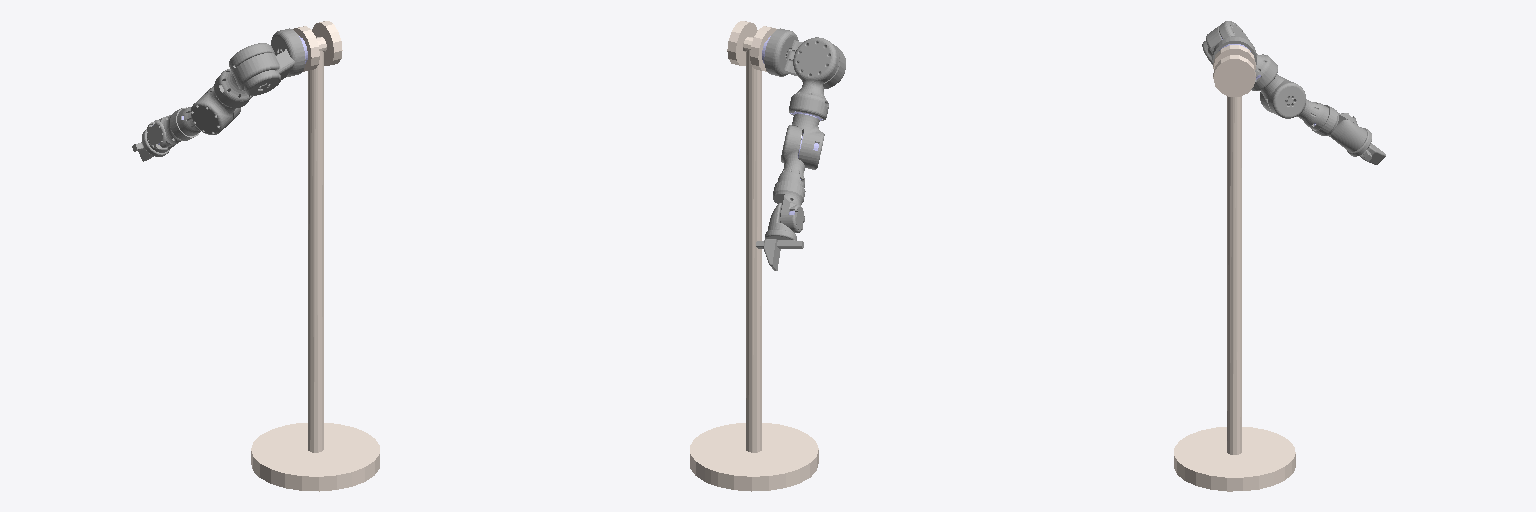
--- Facts derived from the render (not from the file) ---
Views: 3 orthographic renders of the robot side by side, from view 1: azimuth 30°, elevation 25°; view 2: azimuth 150°, elevation 25°; view 3: azimuth 270°, elevation 25°.
Robot: humanoid_arm_5dof — 23 links, 22 joints (6 revolute, 2 prismatic, 14 fixed); root link base_link; default pose: all joints at 0.
Links seen in each view (by area): view 1: base_link, left_shoulder_pitch, left_shoulder_roll, left_shoulder_yaw, left_wrist; view 2: base_link, left_shoulder_roll, left_shoulder_pitch, left_wrist, left_shoulder_yaw, left_elbow, left_palm; view 3: base_link, left_elbow, left_shoulder_roll, left_hand, left_shoulder_pitch.
Boxes of the visible links, <box> form: base_link: <box>251,21,379,491</box>; left_shoulder_pitch: <box>233,28,305,95</box>; left_shoulder_roll: <box>214,43,274,107</box>; left_shoulder_yaw: <box>191,91,235,134</box>; left_wrist: <box>147,107,198,148</box>; base_link: <box>690,21,818,491</box>; left_shoulder_roll: <box>789,37,839,120</box>; left_shoulder_pitch: <box>764,28,845,88</box>; left_wrist: <box>773,181,805,232</box>; left_shoulder_yaw: <box>792,114,824,169</box>; left_elbow: <box>777,125,804,187</box>; left_palm: <box>756,229,803,248</box>; base_link: <box>1174,45,1295,491</box>; left_elbow: <box>1268,81,1328,130</box>; left_shoulder_roll: <box>1219,21,1277,90</box>; left_hand: <box>1330,119,1366,151</box>; left_shoulder_pitch: <box>1202,26,1256,64</box>.
Size in the robot's own frame: 0.6111 by 0.6954 by 1.5 metres.
22 mesh visuals loaded from 23 distinct referenced files (22 binary STL); not drawn: 1 (reference not matched to a file when rendering).

The robot description file, URDF, robot "humanoid_arm_5dof":
<?xml version="1.0" encoding="utf-8"?>
<!-- This URDF was automatically created by SolidWorks to URDF Exporter! Originally created by Stephen Brawner ([email redacted]) 
     Commit Version: 1.6.0-4-g7f85cfe  Build Version: 1.6.7995.38578
     For more information, please see http://wiki.ros.org/sw_urdf_exporter -->
<robot name="humanoid_arm_5dof">
  <link name="base_link">
    <inertial>
      <origin xyz="-1.4142E-08 1.4615E-08 0.35593" rpy="0 0 0" />
      <mass value="77.718" />
      <inertia ixx="21.025" ixy="-8.8504E-08" ixz="6.1541E-07" iyy="21.028" iyz="-1.1273E-06" izz="1.008" />
    </inertial>
    <visual>
      <origin xyz="0 0 0" rpy="0 0 0" />
      <geometry>
        <mesh filename="package://arm_description/meshes/visual/base_link.STL" />
      </geometry>
      <material name="">
        <color rgba="1 0.94902 0.9098 1" />
      </material>
    </visual>
    <collision>
      <origin xyz="0 0 0" rpy="0 0 0" />
      <geometry>
        <mesh filename="package://arm_description/meshes/visual/base_link.STL" />
      </geometry>
    </collision>
  </link>
  <link name="left_shoulder_pitch_rs04_actuator">
    <inertial>
      <origin xyz="-0.024532 6.1284E-13 3.0664E-13" rpy="0 0 0" />
      <mass value="1.345" />
      <inertia ixx="0.00087641" ixy="-1.2177E-17" ixz="-1.4781E-16" iyy="0.0005424" iyz="-3.5471E-06" izz="0.00054116" />
    </inertial>
    <visual>
      <origin xyz="0 0 0" rpy="0 0 0" />
      <geometry>
        <mesh filename="package://arm_description/meshes/visual/left_shoulder_pitch_rs04_actuator.STL" />
      </geometry>
      <material name="">
        <color rgba="0.82353 0.82353 1 1" />
      </material>
    </visual>
    <collision>
      <origin xyz="0 0 0" rpy="0 0 0" />
      <geometry>
        <mesh filename="package://arm_description/meshes/visual/left_shoulder_pitch_rs04_actuator.STL" />
      </geometry>
    </collision>
  </link>
  <joint name="left_shoulder_pitch_rs04_actuator_fixture_link" type="fixed">
    <origin xyz="-0.1079 0 1.425" rpy="-0.67594 0 3.1416" />
    <parent link="base_link" />
    <child link="left_shoulder_pitch_rs04_actuator" />
    <axis xyz="0 0 0" />
  </joint>
  <link name="left_shoulder_pitch_rs04_flange">
    <inertial>
      <origin xyz="-0.0018894 -9.5572E-05 2.5808E-05" rpy="0 0 0" />
      <mass value="0.0075" />
      <inertia ixx="2.3623E-06" ixy="6.4388E-21" ixz="-7.1204E-21" iyy="1.1941E-06" iyz="3.6528E-21" izz="1.1941E-06" />
    </inertial>
    <visual>
      <origin xyz="0 0 0" rpy="0 0 0" />
      <geometry>
        <mesh filename="package://arm_description/meshes/visual/left_shoulder_pitch_rs04_flange.STL" />
      </geometry>
      <material name="">
        <color rgba="0.82353 0.82353 1 1" />
      </material>
    </visual>
    <collision>
      <origin xyz="0 0 0" rpy="0 0 0" />
      <geometry>
        <mesh filename="package://arm_description/meshes/visual/left_shoulder_pitch_rs04_flange.STL" />
      </geometry>
    </collision>
  </link>
  <joint name="left_shoulder_pitch_rs04" type="revolute">
    <origin xyz="0 0 0" rpy="0 0 0" />
    <parent link="left_shoulder_pitch_rs04_actuator" />
    <child link="left_shoulder_pitch_rs04_flange" />
    <axis xyz="1 0 0" />
    <limit lower="-3.14" upper="3.14" effort="120" velocity="3" />
    <safety_controller soft_upper_limit="3.14" soft_lower_limit="-3.14" k_velocity="0" />
  </joint>
  <link name="left_shoulder_pitch">
    <inertial>
      <origin xyz="0.068247 0.039551 -5.234E-06" rpy="0 0 0" />
      <mass value="0.29944" />
      <inertia ixx="0.0043457" ixy="-0.0020544" ixz="-3.8776E-07" iyy="0.0075578" iyz="-1.6186E-07" izz="0.0076907" />
    </inertial>
    <visual>
      <origin xyz="0 0 0" rpy="0 0 0" />
      <geometry>
        <mesh filename="package://arm_description/meshes/visual/left_shoulder_pitch.STL" />
      </geometry>
      <material name="">
        <color rgba="0.69804 0.69804 0.69804 1" />
      </material>
    </visual>
    <collision>
      <origin xyz="0 0 0" rpy="0 0 0" />
      <geometry>
        <mesh filename="package://arm_description/meshes/visual/left_shoulder_pitch.STL" />
      </geometry>
    </collision>
  </link>
  <joint name="left_shoulder_pitch_fixture" type="fixed">
    <origin xyz="0 0 0" rpy="0 0 0" />
    <parent link="left_shoulder_pitch_rs04_flange" />
    <child link="left_shoulder_pitch" />
    <axis xyz="0 0 0" />
  </joint>
  <link name="left_shoulder_roll_rs04_flange">
    <inertial>
      <origin xyz="-5.7019E-12 -0.0021106 2.1706E-10" rpy="0 0 0" />
      <mass value="0.0075" />
      <inertia ixx="1.1941E-06" ixy="3.5072E-22" ixz="1.0191E-21" iyy="2.3623E-06" iyz="-4.903E-15" izz="1.1941E-06" />
    </inertial>
    <visual>
      <origin xyz="0 0 0" rpy="0 0 0" />
      <geometry>
        <mesh filename="package://arm_description/meshes/visual/left_shoulder_roll_rs04_flange.STL" />
      </geometry>
      <material name="">
        <color rgba="0.82353 0.82353 1 1" />
      </material>
    </visual>
    <collision>
      <origin xyz="0 0 0" rpy="0 0 0" />
      <geometry>
        <mesh filename="package://arm_description/meshes/visual/left_shoulder_roll_rs04_flange.STL" />
      </geometry>
    </collision>
  </link>
  <joint name="left_shoulder_roll_rs04_flange" type="fixed">
    <origin xyz="0.11678 0.0487 -2.7056E-05" rpy="0 0 3.1416" />
    <parent link="left_shoulder_pitch" />
    <child link="left_shoulder_roll_rs04_flange" />
    <axis xyz="0 0 0" />
  </joint>
  <link name="left_shoulder_roll_rs04_actuator">
    <inertial>
      <origin xyz="7.5431E-05 0.020532 2.7056E-05" rpy="0 0 0" />
      <mass value="1.345" />
      <inertia ixx="0.00054201" ixy="-1.5116E-14" ixz="-3.5941E-06" iyy="0.00087641" iyz="-1.4055E-12" izz="0.00054156" />
    </inertial>
    <visual>
      <origin xyz="0 0 0" rpy="0 0 0" />
      <geometry>
        <mesh filename="package://arm_description/meshes/visual/left_shoulder_roll_rs04_actuator.STL" />
      </geometry>
      <material name="">
        <color rgba="0.82353 0.82353 1 1" />
      </material>
    </visual>
    <collision>
      <origin xyz="0 0 0" rpy="0 0 0" />
      <geometry>
        <mesh filename="package://arm_description/meshes/visual/left_shoulder_roll_rs04_actuator.STL" />
      </geometry>
    </collision>
  </link>
  <joint name="left_shoulder_roll_rs04" type="revolute">
    <origin xyz="0 0 0" rpy="0 0 0" />
    <parent link="left_shoulder_roll_rs04_flange" />
    <child link="left_shoulder_roll_rs04_actuator" />
    <axis xyz="0 -1 0" />
    <limit lower="-3.5" upper="0.6" effort="120" velocity="3" />
    <safety_controller soft_upper_limit="3.14" soft_lower_limit="-3.14" k_velocity="0" />
  </joint>
  <link name="left_shoulder_roll">
    <inertial>
      <origin xyz="-0.0075223 0.049755 -0.055681" rpy="0 0 0" />
      <mass value="0.2494" />
      <inertia ixx="0.0066808" ixy="-0.00010577" ixz="-0.00053776" iyy="0.0073988" iyz="-0.0008009" izz="0.0022285" />
    </inertial>
    <visual>
      <origin xyz="0 0 0" rpy="0 0 0" />
      <geometry>
        <mesh filename="package://arm_description/meshes/visual/left_shoulder_roll.STL" />
      </geometry>
      <material name="">
        <color rgba="0.69804 0.69804 0.69804 1" />
      </material>
    </visual>
    <collision>
      <origin xyz="0 0 0" rpy="0 0 0" />
      <geometry>
        <mesh filename="package://arm_description/meshes/visual/left_shoulder_roll.STL" />
      </geometry>
    </collision>
  </link>
  <joint name="left_shoulde_roll_fixture" type="fixed">
    <origin xyz="0 0 0" rpy="0 0 0" />
    <parent link="left_shoulder_roll_rs04_actuator" />
    <child link="left_shoulder_roll" />
    <axis xyz="0 0 0" />
  </joint>
  <link name="left_shoulder_yaw_rs03_actuator">
    <inertial>
      <origin xyz="-0.00013735 -0.00027 0.025084" rpy="0 0 0" />
      <mass value="0.83" />
      <inertia ixx="0.00027432" ixy="-2.0735E-06" ixz="-2.5625E-07" iyy="0.00027129" iyz="-5.1493E-07" izz="0.00038166" />
    </inertial>
    <visual>
      <origin xyz="0 0 0" rpy="0 0 0" />
      <geometry>
        <mesh filename="package://arm_description/meshes/visual/left_shoulder_yaw_rs03_actuator.STL" />
      </geometry>
      <material name="">
        <color rgba="0.82353 0.82353 1 1" />
      </material>
    </visual>
    <collision>
      <origin xyz="0 0 0" rpy="0 0 0" />
      <geometry>
        <mesh filename="package://arm_description/meshes/visual/left_shoulder_yaw_rs03_actuator.STL" />
      </geometry>
    </collision>
  </link>
  <joint name="left_shoulder_yaw_rs03_actuator_fixture_link" type="fixed">
    <origin xyz="-0.021972 0.0377 -0.17358" rpy="0.057123 0.11257 0.47088" />
    <parent link="left_shoulder_roll" />
    <child link="left_shoulder_yaw_rs03_actuator" />
    <axis xyz="0 0 0" />
  </joint>
  <link name="left_shoulder_yaw_rs03_flange">
    <inertial>
      <origin xyz="-2.6865E-10 -6.8053E-10 -0.0012563" rpy="0 0 0" />
      <mass value="0.005" />
      <inertia ixx="5.6768E-07" ixy="8.5365E-22" ixz="8.5365E-22" iyy="5.6768E-07" iyz="2.647E-23" izz="1.1311E-06" />
    </inertial>
    <visual>
      <origin xyz="0 0 0" rpy="0 0 0" />
      <geometry>
        <mesh filename="package://arm_description/meshes/visual/left_shoulder_yaw_rs03_flange.STL" />
      </geometry>
      <material name="">
        <color rgba="0.82353 0.82353 1 1" />
      </material>
    </visual>
    <collision>
      <origin xyz="0 0 0" rpy="0 0 0" />
      <geometry>
        <mesh filename="package://arm_description/meshes/visual/left_shoulder_yaw_rs03_flange.STL" />
      </geometry>
    </collision>
  </link>
  <joint name="left_shoulder_yaw_rs03" type="revolute">
    <origin xyz="0 0 0" rpy="0 0 0" />
    <parent link="left_shoulder_yaw_rs03_actuator" />
    <child link="left_shoulder_yaw_rs03_flange" />
    <axis xyz="0 0 1" />
    <limit lower="-3.14" upper="3.14" effort="60" velocity="1.6" />
    <safety_controller soft_upper_limit="3.14" soft_lower_limit="-3.14" k_velocity="0" />
  </joint>
  <link name="left_shoulder_yaw_flange">
    <inertial>
      <origin xyz="-2.2214E-10 -3.6885E-10 -0.0089804" rpy="0 0 0" />
      <mass value="0.008838" />
      <inertia ixx="1.2318E-05" ixy="-9.4259E-08" ixz="4.4901E-16" iyy="1.1992E-05" iyz="-6.0556E-16" izz="2.339E-05" />
    </inertial>
    <visual>
      <origin xyz="0 0 0" rpy="0 0 0" />
      <geometry>
        <mesh filename="package://arm_description/meshes/visual/left_shoulder_yaw_flange.STL" />
      </geometry>
      <material name="">
        <color rgba="0.69804 0.69804 0.69804 1" />
      </material>
    </visual>
    <collision>
      <origin xyz="0 0 0" rpy="0 0 0" />
      <geometry>
        <mesh filename="package://arm_description/meshes/visual/left_shoulder_yaw_flange.STL" />
      </geometry>
    </collision>
  </link>
  <joint name="left_shoulder_yaw_flange_fixture" type="fixed">
    <origin xyz="0 0 0" rpy="0 0 0" />
    <parent link="left_shoulder_yaw_rs03_flange" />
    <child link="left_shoulder_yaw_flange" />
    <axis xyz="0 0 0" />
  </joint>
  <link name="left_shoulder_yaw">
    <inertial>
      <origin xyz="-0.027609 1.0122E-06 -0.076632" rpy="0 0 0" />
      <mass value="0.122018" />
      <inertia ixx="0.0018364" ixy="2.5971E-07" ixz="-0.00033902" iyy="0.0016454" iyz="8.6387E-08" izz="0.0010145" />
    </inertial>
    <visual>
      <origin xyz="0 0 0" rpy="0 0 0" />
      <geometry>
        <mesh filename="package://arm_description/meshes/visual/left_shoulder_yaw.STL" />
      </geometry>
      <material name="">
        <color rgba="0.69804 0.69804 0.69804 1" />
      </material>
    </visual>
    <collision>
      <origin xyz="0 0 0" rpy="0 0 0" />
      <geometry>
        <mesh filename="package://arm_description/meshes/visual/left_shoulder_yaw.STL" />
      </geometry>
    </collision>
  </link>
  <joint name="left_shoulder_yaw_fixture" type="fixed">
    <origin xyz="0 0 0" rpy="0 0 0" />
    <parent link="left_shoulder_yaw_flange" />
    <child link="left_shoulder_yaw" />
    <axis xyz="0 0 0" />
  </joint>
  <link name="left_elbow_rs03_actuator">
    <inertial>
      <origin xyz="-0.025084 8.1191E-07 -0.00030291" rpy="0 0 0" />
      <mass value="0.83" />
      <inertia ixx="0.00038166" ixy="3.1874E-09" ixz="5.7519E-07" iyy="0.00027537" iyz="1.1044E-08" izz="0.00027024" />
    </inertial>
    <visual>
      <origin xyz="0 0 0" rpy="0 0 0" />
      <geometry>
        <mesh filename="package://arm_description/meshes/visual/left_elbow_rs03_actuator.STL" />
      </geometry>
      <material name="">
        <color rgba="0.82353 0.82353 1 1" />
      </material>
    </visual>
    <collision>
      <origin xyz="0 0 0" rpy="0 0 0" />
      <geometry>
        <mesh filename="package://arm_description/meshes/visual/left_elbow_rs03_actuator.STL" />
      </geometry>
    </collision>
  </link>
  <joint name="left_elbow_rs03_actuator_ficture_link" type="fixed">
    <origin xyz="0 0 -0.0987" rpy="0 0 0" />
    <parent link="left_shoulder_yaw" />
    <child link="left_elbow_rs03_actuator" />
    <axis xyz="0 0 0" />
  </joint>
  <link name="left_elbow_rs03_flange">
    <inertial>
      <origin xyz="0.0012563 -1.3773E-09 -1.6467E-10" rpy="0 0 0" />
      <mass value="0.005" />
      <inertia ixx="1.1311E-06" ixy="1.3467E-21" ixz="4.7778E-21" iyy="5.6768E-07" iyz="-4.4999E-22" izz="5.6768E-07" />
    </inertial>
    <visual>
      <origin xyz="0 0 0" rpy="0 0 0" />
      <geometry>
        <mesh filename="package://arm_description/meshes/visual/left_elbow_rs03_flange.STL" />
      </geometry>
      <material name="">
        <color rgba="0.82353 0.82353 1 1" />
      </material>
    </visual>
    <collision>
      <origin xyz="0 0 0" rpy="0 0 0" />
      <geometry>
        <mesh filename="package://arm_description/meshes/visual/left_elbow_rs03_flange.STL" />
      </geometry>
    </collision>
  </link>
  <joint name="left_elbow_rs03" type="revolute">
    <origin xyz="0 0 0" rpy="0 0 0" />
    <parent link="left_elbow_rs03_actuator" />
    <child link="left_elbow_rs03_flange" />
    <axis xyz="-1 0 0" />
    <limit lower="-1.3" upper="1.9" effort="60" velocity="1.6" />
    <safety_controller soft_upper_limit="3.14" soft_lower_limit="-3.14" k_velocity="0" />
  </joint>
  <link name="left_elbow">
    <inertial>
      <origin xyz="0.020821 0.0089724 -0.03236" rpy="0 0 0" />
      <mass value="0.1949" />
      <inertia ixx="0.0036503" ixy="0.00012418" ixz="-0.00045842" iyy="0.0031234" iyz="0.00057257" izz="0.001216" />
    </inertial>
    <visual>
      <origin xyz="0 0 0" rpy="0 0 0" />
      <geometry>
        <mesh filename="package://arm_description/meshes/visual/left_elbow.STL" />
      </geometry>
      <material name="">
        <color rgba="0.69804 0.69804 0.69804 1" />
      </material>
    </visual>
    <collision>
      <origin xyz="0 0 0" rpy="0 0 0" />
      <geometry>
        <mesh filename="package://arm_description/meshes/visual/left_elbow.STL" />
      </geometry>
    </collision>
  </link>
  <joint name="left_elbow_fixture" type="fixed">
    <origin xyz="0 0 0" rpy="0 0 0" />
    <parent link="left_elbow_rs03_flange" />
    <child link="left_elbow" />
    <axis xyz="0 0 0" />
  </joint>
  <link name="left_wrist_actuator">
    <inertial>
      <origin xyz="-6.2313E-10 -0.023014 2.7886E-07" rpy="0 0 0" />
      <mass value="0.38" />
      <inertia ixx="8.809E-05" ixy="-1.0059E-17" ixz="-7.708E-20" iyy="0.000127" iyz="3.6839E-17" izz="8.809E-05" />
    </inertial>
    <visual>
      <origin xyz="0 0 0" rpy="0 0 0" />
      <geometry>
        <mesh filename="package://arm_description/meshes/visual/left_wrist_actuator.STL" />
      </geometry>
      <material name="">
        <color rgba="0.82353 0.82353 1 1" />
      </material>
    </visual>
    <collision>
      <origin xyz="0 0 0" rpy="0 0 0" />
      <geometry>
        <mesh filename="package://arm_description/meshes/visual/left_wrist_actuator.STL" />
      </geometry>
    </collision>
  </link>
  <joint name="left_wrist_rs02_actuator_fixture_link" type="fixed">
    <origin xyz="0.0055 0.044061 -0.15849" rpy="-1.2996 0 0" />
    <parent link="left_elbow" />
    <child link="left_wrist_actuator" />
    <axis xyz="0 0 0" />
  </joint>
  <link name="left_wrist_rs02_flange">
    <inertial>
      <origin xyz="-3.2202E-10 -0.0019899 2.7874E-07" rpy="0 0 0" />
      <mass value="0.0025" />
      <inertia ixx="1.3495E-07" ixy="8.3809E-20" ixz="-2.7711E-22" iyy="2.634E-07" iyz="1.0102E-19" izz="1.3495E-07" />
    </inertial>
    <visual>
      <origin xyz="0 0 0" rpy="0 0 0" />
      <geometry>
        <mesh filename="package://arm_description/meshes/visual/left_wrist_rs02_flange.STL" />
      </geometry>
      <material name="">
        <color rgba="0.82353 0.82353 1 1" />
      </material>
    </visual>
    <collision>
      <origin xyz="0 0 0" rpy="0 0 0" />
      <geometry>
        <mesh filename="package://arm_description/meshes/visual/left_wrist_rs02_flange.STL" />
      </geometry>
    </collision>
  </link>
  <joint name="left_wrist_rs02" type="revolute">
    <origin xyz="0 0 0" rpy="0 0 0" />
    <parent link="left_wrist_actuator" />
    <child link="left_wrist_rs02_flange" />
    <axis xyz="0 1 0" />
    <limit lower="-3.14" upper="3.14" effort="17" velocity="0.8" />
    <safety_controller soft_upper_limit="3.14" soft_lower_limit="-3.14" k_velocity="0" />
  </joint>
  <link name="left_wrist">
    <inertial>
      <origin xyz="-0.012628 0.041809 0.0059405" rpy="0 0 0" />
      <mass value="0.09723" />
      <inertia ixx="0.0010421" ixy="0.00023897" ixz="2.5575E-06" iyy="0.00064729" iyz="-0.00011195" izz="0.0010487" />
    </inertial>
    <visual>
      <origin xyz="0 0 0" rpy="0 0 0" />
      <geometry>
        <mesh filename="package://arm_description/meshes/visual/left_wrist.STL" />
      </geometry>
      <material name="">
        <color rgba="0.69804 0.69804 0.69804 1" />
      </material>
    </visual>
    <collision>
      <origin xyz="0 0 0" rpy="0 0 0" />
      <geometry>
        <mesh filename="package://arm_description/meshes/visual/left_wrist.STL" />
      </geometry>
    </collision>
  </link>
  <joint name="left_wrist_fixture" type="fixed">
    <origin xyz="0 0 0" rpy="0 0 0" />
    <parent link="left_wrist_rs02_flange" />
    <child link="left_wrist" />
    <axis xyz="0 0 0" />
  </joint>
  <link name="left_hand_rs02">
    <inertial>
      <origin xyz="-0.023014 2.2389E-07 3.2595E-07" rpy="0 0 0" />
      <mass value="0.38" />
      <inertia ixx="0.000127" ixy="2.2647E-11" ixz="-1.704E-11" iyy="8.809E-05" iyz="-9.7485E-18" izz="8.809E-05" />
    </inertial>
    <visual>
      <origin xyz="0 0 0" rpy="0 0 0" />
      <geometry>
        <mesh filename="package://arm_description/meshes/visual/left_hand_rs02.STL" />
      </geometry>
      <material name="">
        <color rgba="0.82353 0.82353 1 1" />
      </material>
    </visual>
    <collision>
      <origin xyz="0 0 0" rpy="0 0 0" />
      <geometry>
        <mesh filename="package://arm_description/meshes/visual/left_hand_rs02.STL" />
      </geometry>
    </collision>
  </link>
  <joint name="left_hand_rs02_fixture_link" type="fixed">
    <origin xyz="0 0.0945 0" rpy="0.64485 0.44406 0" />
    <parent link="left_wrist" />
    <child link="left_hand_rs02" />
    <axis xyz="0 0 0" />
  </joint>
  <link name="left_hand_rs02_flange">
    <inertial>
      <origin xyz="-0.0020103 2.3612E-07 3.1674E-07" rpy="0 0 0" />
      <mass value="0.0025" />
      <inertia ixx="2.634E-07" ixy="7.4761E-14" ixz="-5.6253E-14" iyy="1.3495E-07" iyz="-3.2502E-20" izz="1.3495E-07" />
    </inertial>
    <visual>
      <origin xyz="0 0 0" rpy="0 0 0" />
      <geometry>
        <mesh filename="package://arm_description/meshes/visual/left_hand_rs02_flange.STL" />
      </geometry>
      <material name="">
        <color rgba="0.82353 0.82353 1 1" />
      </material>
    </visual>
    <collision>
      <origin xyz="0 0 0" rpy="0 0 0" />
      <geometry>
        <mesh filename="package://arm_description/meshes/visual/left_hand_rs02_flange.STL" />
      </geometry>
    </collision>
  </link>
  <joint name="left_hand_rs02" type="revolute">
    <origin xyz="0 0 0" rpy="0 0 0" />
    <parent link="left_hand_rs02" />
    <child link="left_hand_rs02_flange" />
    <axis xyz="1 0 0" />
    <limit lower="-1.5" upper="1.7" effort="17" velocity="0.8" />
    <safety_controller soft_upper_limit="1.7" soft_lower_limit="-1.5" k_velocity="0" />
  </joint>
  <link name="left_hand">
    <inertial>
      <origin xyz="0.011977 0.011477 -0.011141" rpy="0 0 0" />
      <mass value="0.07138" />
      <inertia ixx="0.00044328" ixy="2.0211E-05" ixz="-2.0027E-05" iyy="0.00030939" iyz="3.838E-05" izz="0.00030916" />
    </inertial>
    <visual>
      <origin xyz="0 0 0" rpy="0 0 0" />
      <geometry>
        <mesh filename="package://arm_description/meshes/visual/left_hand.STL" />
      </geometry>
      <material name="">
        <color rgba="0.69804 0.69804 0.69804 1" />
      </material>
    </visual>
    <collision>
      <origin xyz="0 0 0" rpy="0 0 0" />
      <geometry>
        <mesh filename="package://arm_description/meshes/visual/left_hand.STL" />
      </geometry>
    </collision>
  </link>
  <joint name="left_hand_fixture" type="fixed">
    <origin xyz="0 0 0" rpy="0 0 0" />
    <parent link="left_hand_rs02_flange" />
    <child link="left_hand" />
    <axis xyz="0 0 0" />
  </joint>
  <link name="left_palm">
    <inertial>
      <origin xyz="-8.9735E-10 0.0065439 -1.9599E-09" rpy="0 0 0" />
      <mass value="0.047634" />
      <inertia ixx="0.00014804" ixy="1.9125E-12" ixz="2.4924E-11" iyy="0.00037746" iyz="3.0995E-12" izz="0.00028521" />
    </inertial>
    <visual>
      <origin xyz="0 0 0" rpy="0 0 0" />
      <geometry>
        <mesh filename="package://arm_description/meshes/visual/left_palm.STL" />
      </geometry>
      <material name="">
        <color rgba="0.69804 0.69804 0.69804 1" />
      </material>
    </visual>
    <collision>
      <origin xyz="0 0 0" rpy="0 0 0" />
      <geometry>
        <mesh filename="package://arm_description/meshes/visual/left_palm.STL" />
      </geometry>
    </collision>
  </link>
  <joint name="left_palm_fixture" type="fixed">
    <origin xyz="0 0.046829 -0.045845" rpy="-0.77494 -0.017568 0.017203" />
    <parent link="left_hand" />
    <child link="left_palm" />
    <axis xyz="0 0 0" />
  </joint>
  <link name="left_palm_right_finger">
    <inertial>
      <origin xyz="0.021797 0.050369 1.1072E-11" rpy="0 0 0" />
      <mass value="0.02913" />
      <inertia ixx="0.00010609" ixy="1.2822E-05" ixz="2.1515E-19" iyy="4.9057E-05" iyz="2.3548E-19" izz="8.8986E-05" />
    </inertial>
    <visual>
      <origin xyz="0 0 0" rpy="0 0 0" />
      <geometry>
        <mesh filename="package://arm_description/meshes/visual/left_palm_right_finger.STL" />
      </geometry>
      <material name="">
        <color rgba="0.69804 0.69804 0.69804 1" />
      </material>
    </visual>
    <collision>
      <origin xyz="0 0 0" rpy="0 0 0" />
      <geometry>
        <mesh filename="package://arm_description/meshes/visual/left_palm_right_finger.STL" />
      </geometry>
    </collision>
  </link>
  <joint name="left_palm_right_finger" type="prismatic">
    <origin xyz="0 0 0" rpy="0 0 0" />
    <parent link="left_palm" />
    <child link="left_palm_right_finger" />
    <axis xyz="-1 0 0" />
    <limit lower="-0.033" upper="0.00026" effort="0" velocity="0" />
    <safety_controller soft_upper_limit="0.00026" soft_lower_limit="-0.033" k_velocity="0" />
  </joint>
  <link name="left_palm_left_finger">
    <inertial>
      <origin xyz="-0.017013 0.050369 1.1072E-11" rpy="0 0 0" />
      <mass value="0.02913" />
      <inertia ixx="0.00010609" ixy="-1.2822E-05" ixz="-2.6936E-19" iyy="4.9057E-05" iyz="1.44E-19" izz="8.8986E-05" />
    </inertial>
    <visual>
      <origin xyz="0 0 0" rpy="0 0 0" />
      <geometry>
        <mesh filename="package://arm_description/meshes/visual/left_palm_left_finger.STL" />
      </geometry>
      <material name="">
        <color rgba="0.69804 0.69804 0.69804 1" />
      </material>
    </visual>
    <collision>
      <origin xyz="0 0 0" rpy="0 0 0" />
      <geometry>
        <mesh filename="package://arm_description/meshes/visual/left_palm_left_finger.STL" />
      </geometry>
    </collision>
  </link>
  <joint name="left_palm_left_finger" type="prismatic">
    <origin xyz="0 0 0" rpy="0 0 0" />
    <parent link="left_palm" />
    <child link="left_palm_left_finger" />
    <axis xyz="-1 0 0" />
    <limit lower="-0.0041" upper="0.033" effort="0" velocity="0" />
    <safety_controller soft_upper_limit="0.033" soft_lower_limit="-0.0041" k_velocity="0" />
  </joint>
</robot>
